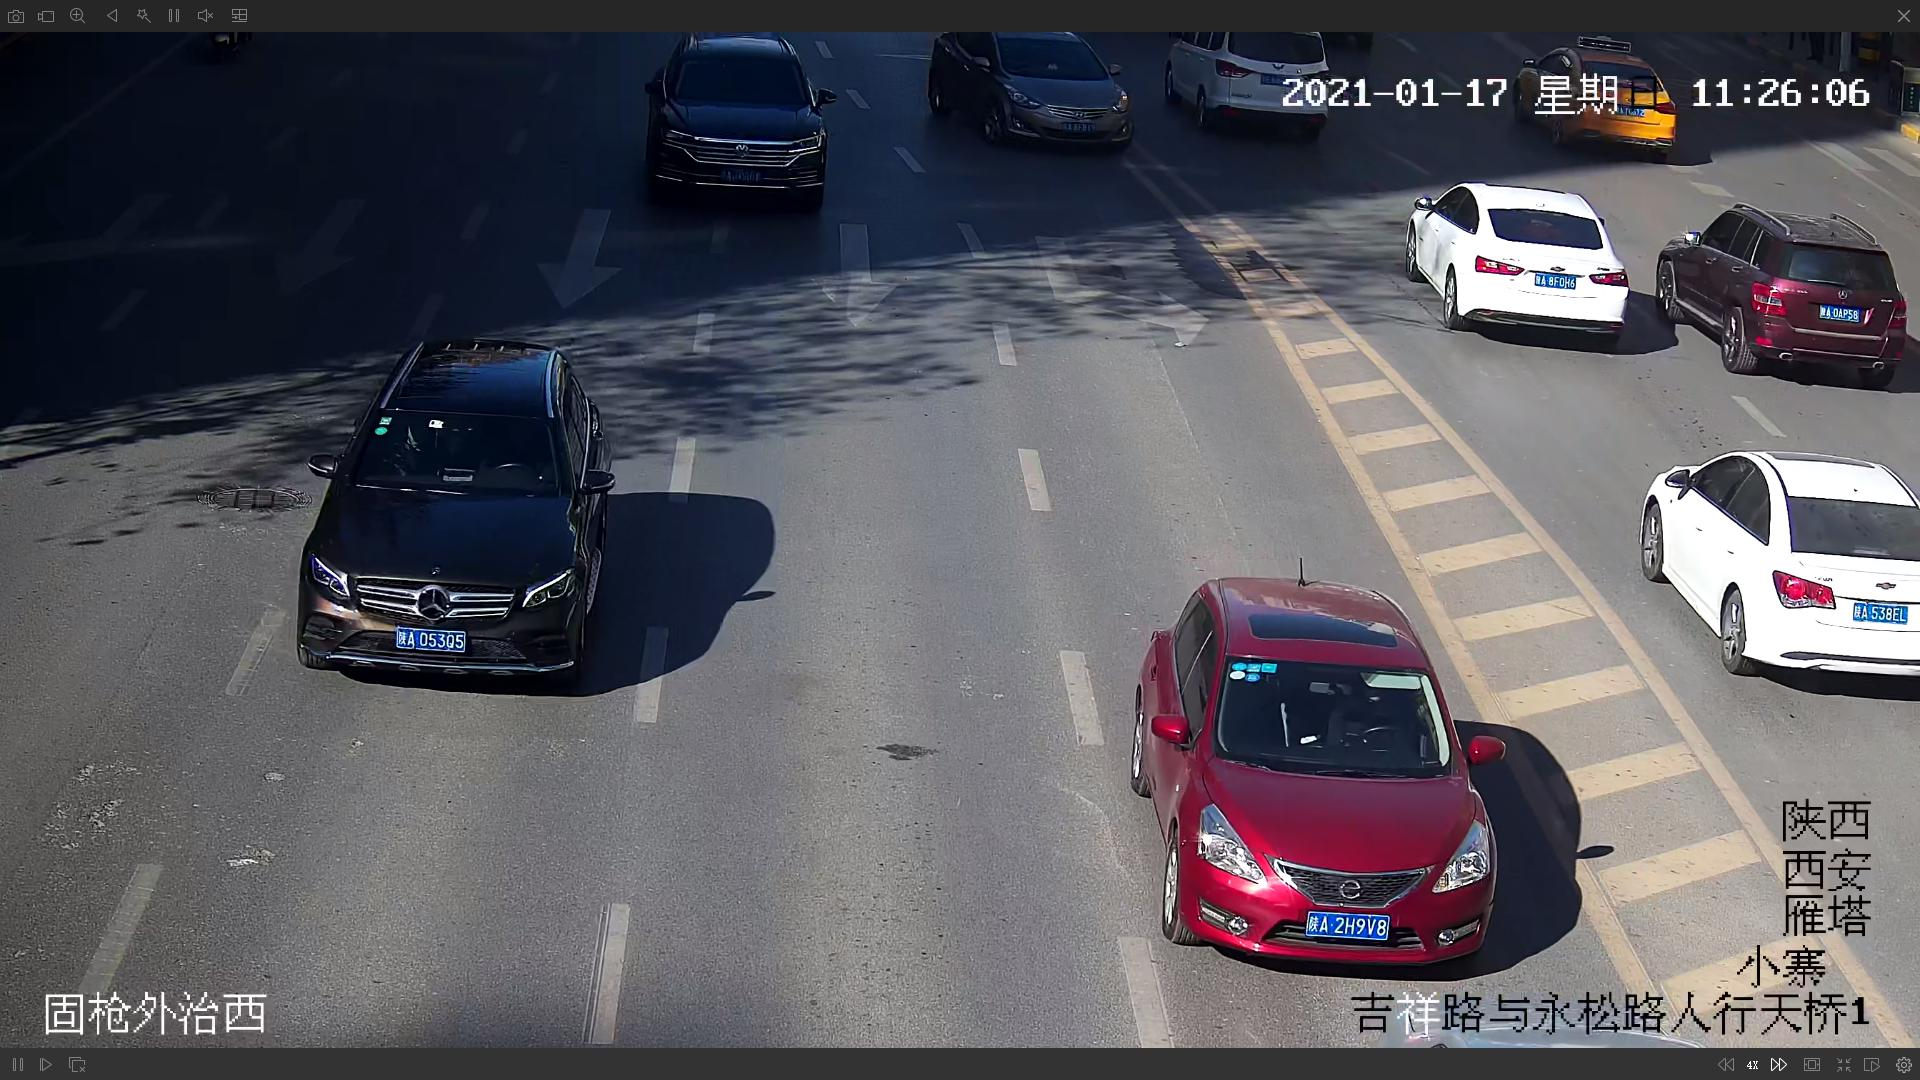black: (291, 332, 607, 698), (638, 36, 833, 219)
dark-red: (1129, 568, 1510, 972)
